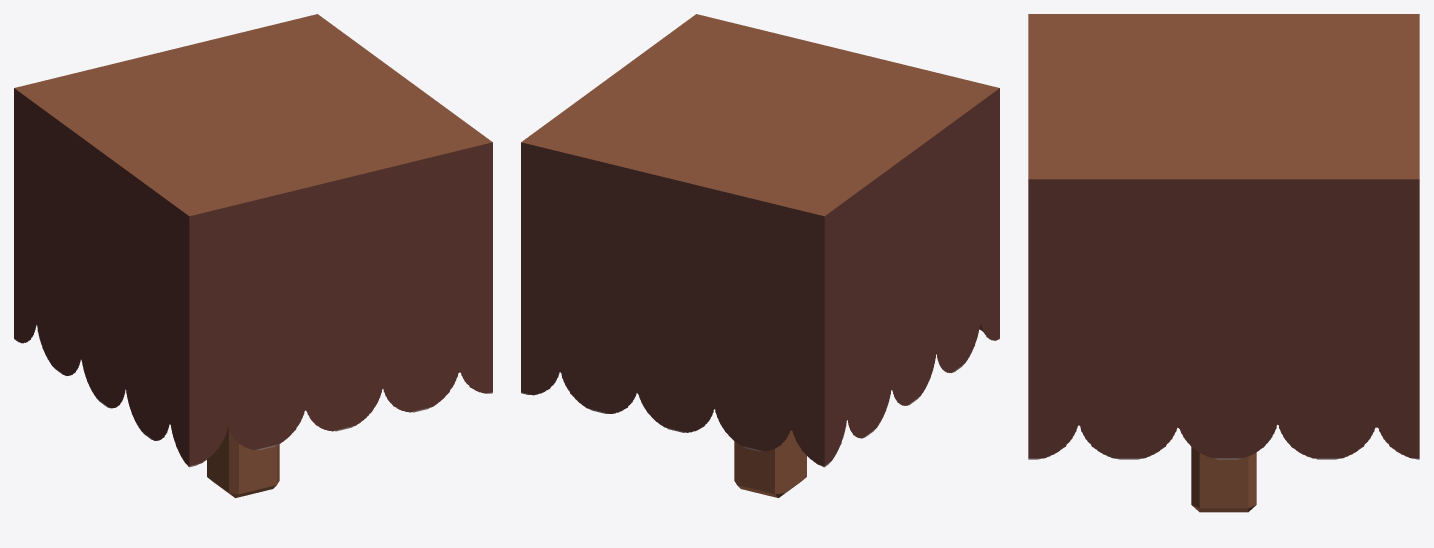
Rendered from Bush 2.fbx.
3 renders of one model, left to right at view 1: azimuth 30°, elevation 25°; view 2: azimuth 150°, elevation 25°; view 3: azimuth 270°, elevation 25°, orthographic. The views are drawn at different scales.
Visible parts, largest first — view 1: Bush_1, Trunk; view 2: Bush_1, Trunk; view 3: Bush_1, Trunk.
Boxes of the visible parts, x1,y1,x2,y2 form: Bush_1: (14, 14, 492, 467); Trunk: (207, 427, 279, 497); Bush_1: (521, 14, 999, 467); Trunk: (734, 430, 806, 497); Bush_1: (1028, 14, 1419, 459); Trunk: (1191, 447, 1256, 512).
Size of the model in its own units: 0.6 by 0.695 by 0.6.
1 material, 1 textured.
